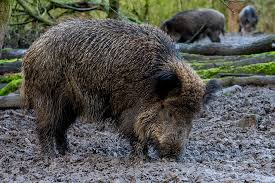boar: (19, 16, 217, 163)
